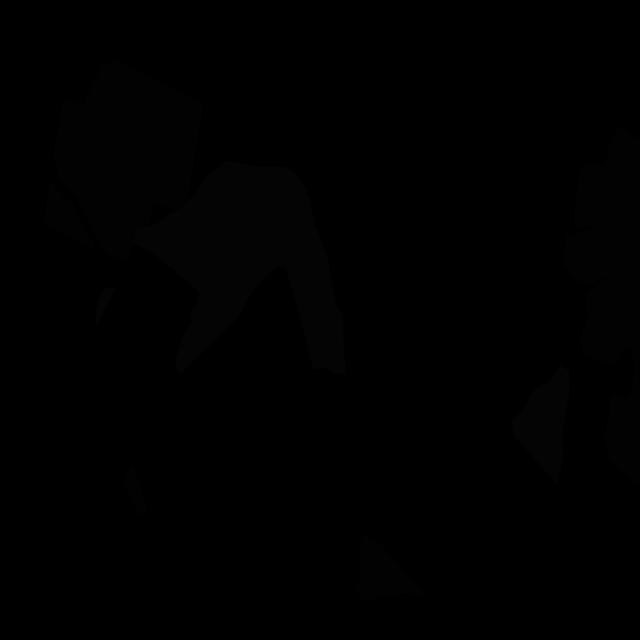cardboard: (53, 59, 204, 262), (564, 128, 640, 364), (604, 349, 640, 485), (356, 534, 424, 601), (44, 179, 97, 252), (122, 465, 149, 515)
soft_plastic: (134, 161, 346, 376), (511, 365, 569, 484), (95, 287, 117, 327)
